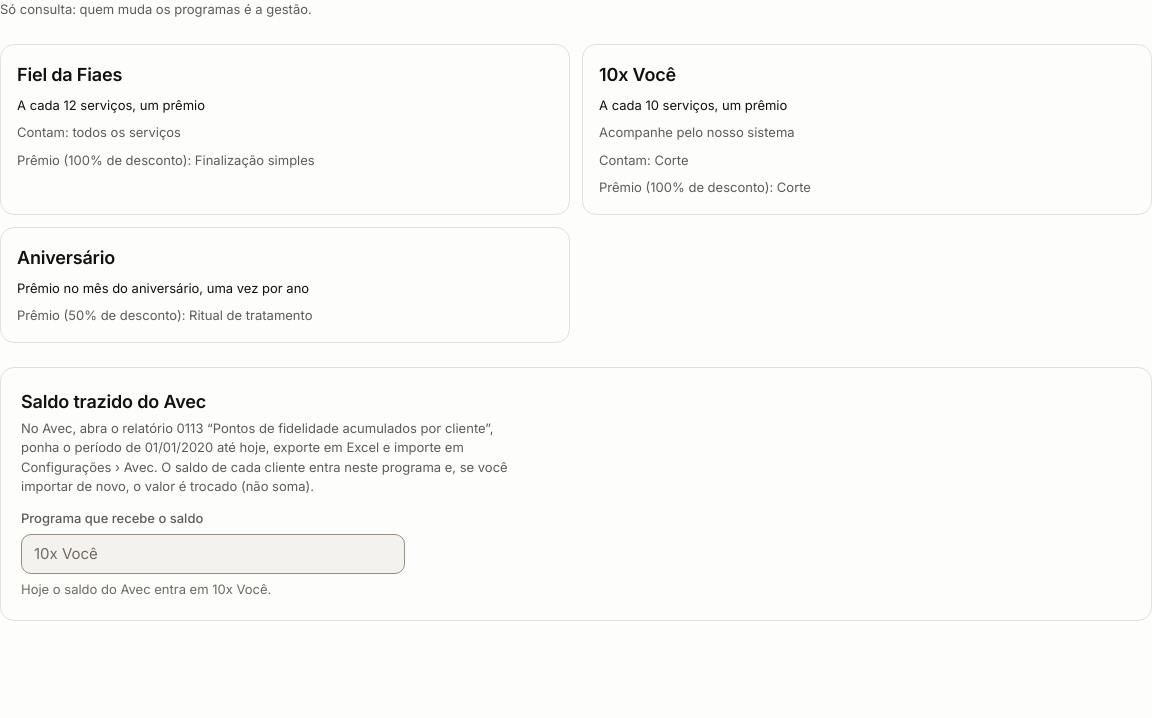
it: marca o programa que está valendo e, para quem só consulta, o 'Todos os serviços' não é botão
Expected: the dropdown labelled "Programa que recebe o saldo" shows "10x Você", [21,534,405,574]
Expected: the text "Hoje o saldo do Avec entra em 10x Você." is shown, [21,581,271,597]
Click the button with aria-label "Abrir Fiel da Fiaes": (70, 74) [0,44,570,214]
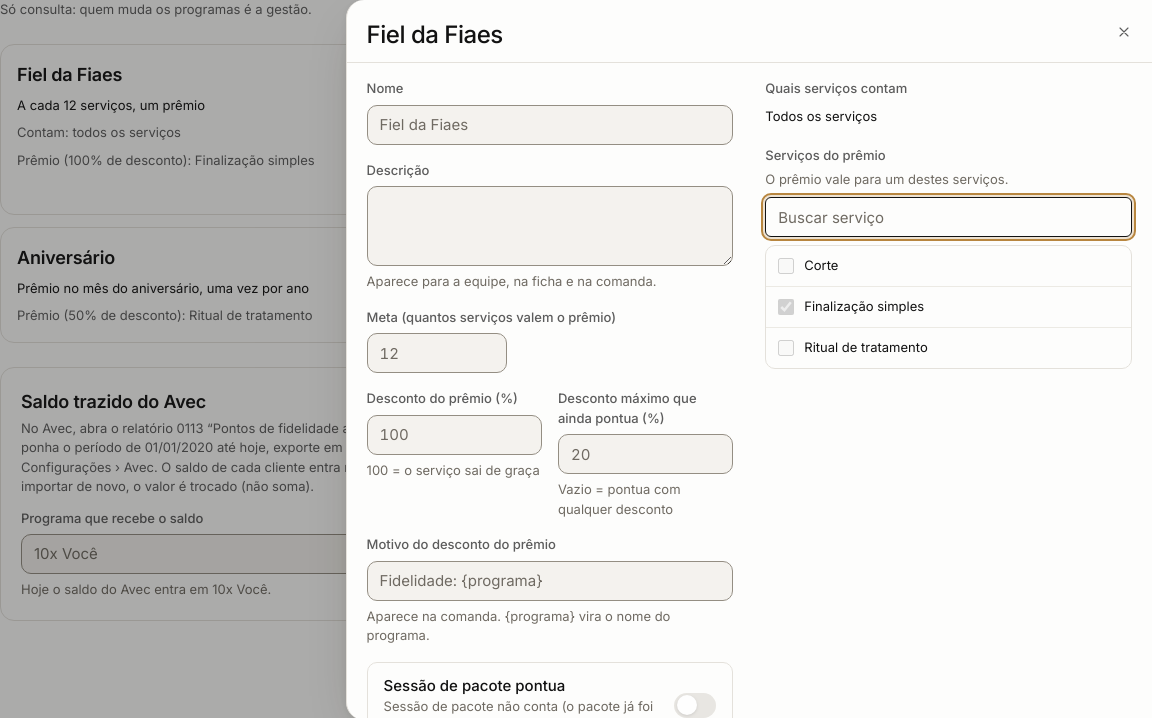
Expected: the text "Todos os serviços" is shown, [765,108,877,124]
